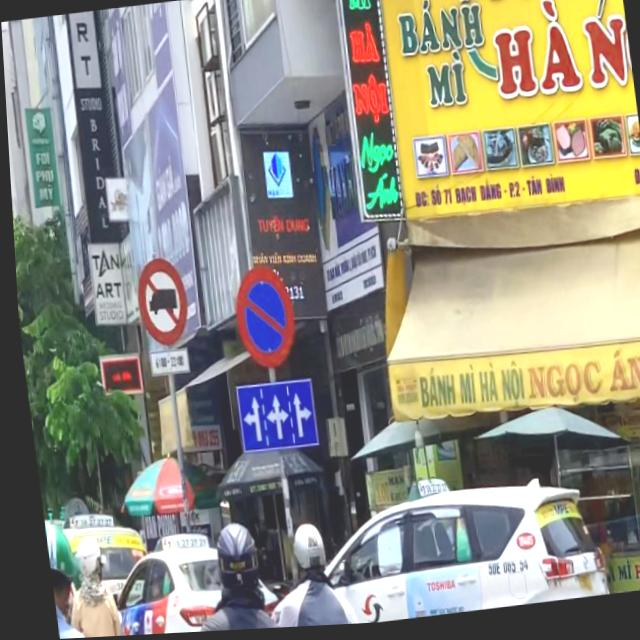Cam do xe: (226, 265, 296, 373)
Cam xe tai: (129, 255, 189, 351)
